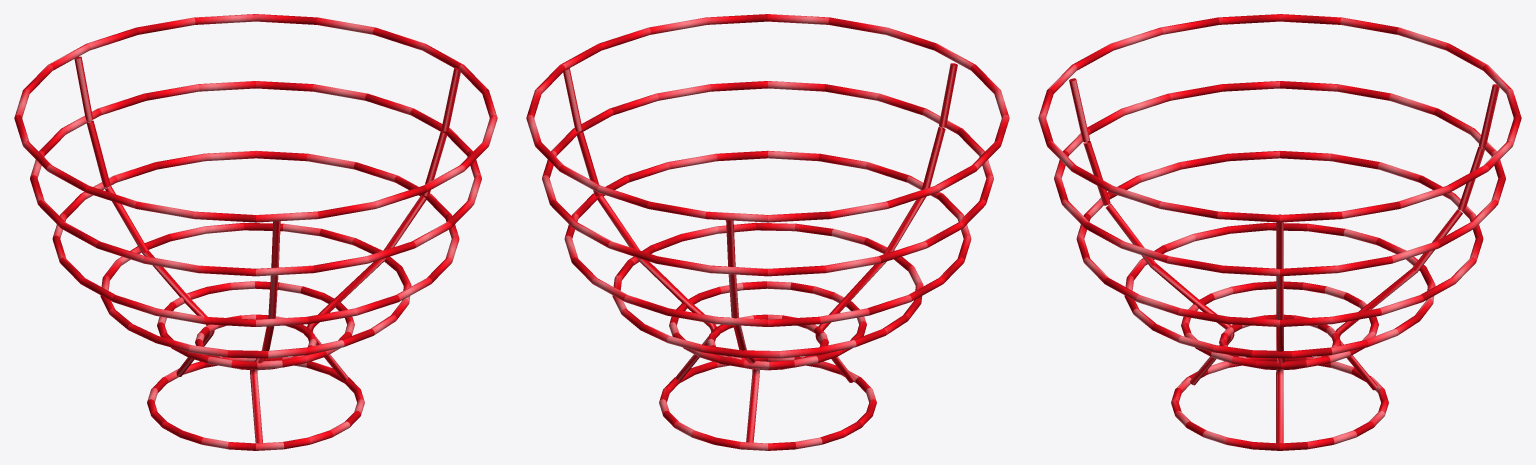
3 renders of one model, left to right at view 1: azimuth 30°, elevation 25°; view 2: azimuth 150°, elevation 25°; view 3: azimuth 270°, elevation 25°, orthographic.
Parts seen in each view (by area): view 1: mesh24_mesh24-geometry, mesh23_mesh23-geometry, mesh22_mesh22-geometry, mesh19_mesh19-geometry, mesh18_mesh18-geometry, mesh21_mesh21-geometry, mesh2_mesh2-geometry, mesh12_mesh12-geometry, mesh9_mesh9-geometry, mesh20_mesh20-geometry, mesh14_mesh14-geometry, mesh13_mesh13-geometry (+1 smaller); view 2: mesh24_mesh24-geometry, mesh23_mesh23-geometry, mesh22_mesh22-geometry, mesh19_mesh19-geometry, mesh18_mesh18-geometry, mesh21_mesh21-geometry, mesh2_mesh2-geometry, mesh9_mesh9-geometry, mesh12_mesh12-geometry, mesh20_mesh20-geometry, mesh11_mesh11-geometry, mesh3_mesh3-geometry (+1 smaller); view 3: mesh24_mesh24-geometry, mesh23_mesh23-geometry, mesh22_mesh22-geometry, mesh19_mesh19-geometry, mesh18_mesh18-geometry, mesh21_mesh21-geometry, mesh12_mesh12-geometry, mesh9_mesh9-geometry, mesh2_mesh2-geometry, mesh20_mesh20-geometry, mesh11_mesh11-geometry, mesh13_mesh13-geometry.
Boxes of the visible parts, left/top/right/bottom form: mesh24_mesh24-geometry: left=14, top=14, right=497, bottom=222; mesh23_mesh23-geometry: left=30, top=81, right=481, bottom=276; mesh22_mesh22-geometry: left=52, top=150, right=459, bottom=326; mesh19_mesh19-geometry: left=100, top=222, right=411, bottom=358; mesh18_mesh18-geometry: left=147, top=357, right=364, bottom=450; mesh21_mesh21-geometry: left=157, top=281, right=354, bottom=369; mesh2_mesh2-geometry: left=307, top=195, right=426, bottom=381; mesh12_mesh12-geometry: left=105, top=186, right=214, bottom=376; mesh9_mesh9-geometry: left=250, top=326, right=274, bottom=443; mesh20_mesh20-geometry: left=195, top=314, right=316, bottom=370; mesh14_mesh14-geometry: left=86, top=120, right=110, bottom=187; mesh13_mesh13-geometry: left=74, top=56, right=93, bottom=121; mesh24_mesh24-geometry: left=526, top=14, right=1009, bottom=222; mesh23_mesh23-geometry: left=542, top=81, right=993, bottom=276; mesh22_mesh22-geometry: left=564, top=150, right=971, bottom=326; mesh19_mesh19-geometry: left=612, top=222, right=923, bottom=358; mesh18_mesh18-geometry: left=659, top=357, right=876, bottom=450; mesh21_mesh21-geometry: left=669, top=281, right=866, bottom=369; mesh2_mesh2-geometry: left=597, top=195, right=716, bottom=381; mesh9_mesh9-geometry: left=815, top=196, right=926, bottom=382; mesh12_mesh12-geometry: left=733, top=325, right=759, bottom=442; mesh20_mesh20-geometry: left=707, top=314, right=828, bottom=370; mesh11_mesh11-geometry: left=939, top=63, right=957, bottom=127; mesh3_mesh3-geometry: left=563, top=67, right=582, bottom=131; mesh24_mesh24-geometry: left=1038, top=14, right=1521, bottom=222; mesh23_mesh23-geometry: left=1054, top=81, right=1505, bottom=276; mesh22_mesh22-geometry: left=1076, top=151, right=1483, bottom=326; mesh19_mesh19-geometry: left=1124, top=222, right=1435, bottom=358; mesh18_mesh18-geometry: left=1171, top=357, right=1388, bottom=450; mesh21_mesh21-geometry: left=1181, top=281, right=1378, bottom=369; mesh12_mesh12-geometry: left=1335, top=209, right=1462, bottom=390; mesh9_mesh9-geometry: left=1106, top=204, right=1234, bottom=385; mesh2_mesh2-geometry: left=1276, top=327, right=1284, bottom=443; mesh20_mesh20-geometry: left=1219, top=314, right=1340, bottom=369; mesh11_mesh11-geometry: left=1069, top=78, right=1089, bottom=141; mesh13_mesh13-geometry: left=1479, top=84, right=1499, bottom=147.
Bounding box in the file's own units: 0.6398 × 0.4257 × 0.6398.
